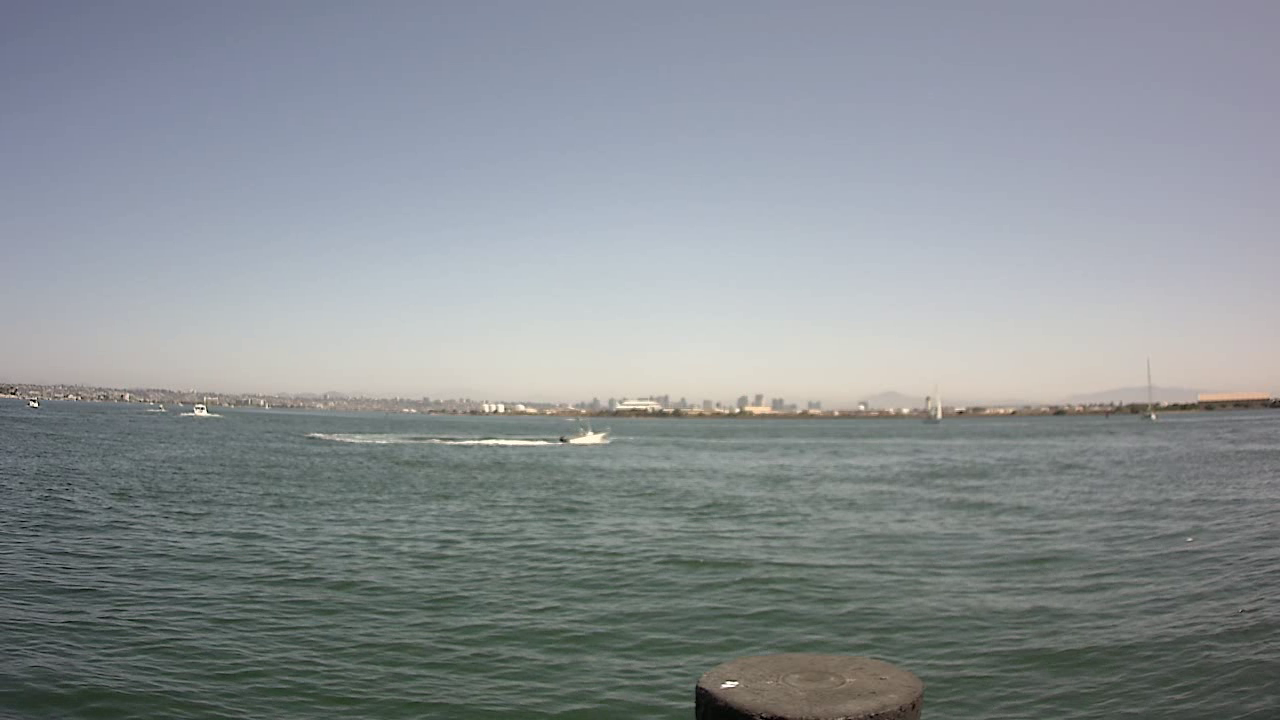target: (558, 418, 615, 449)
